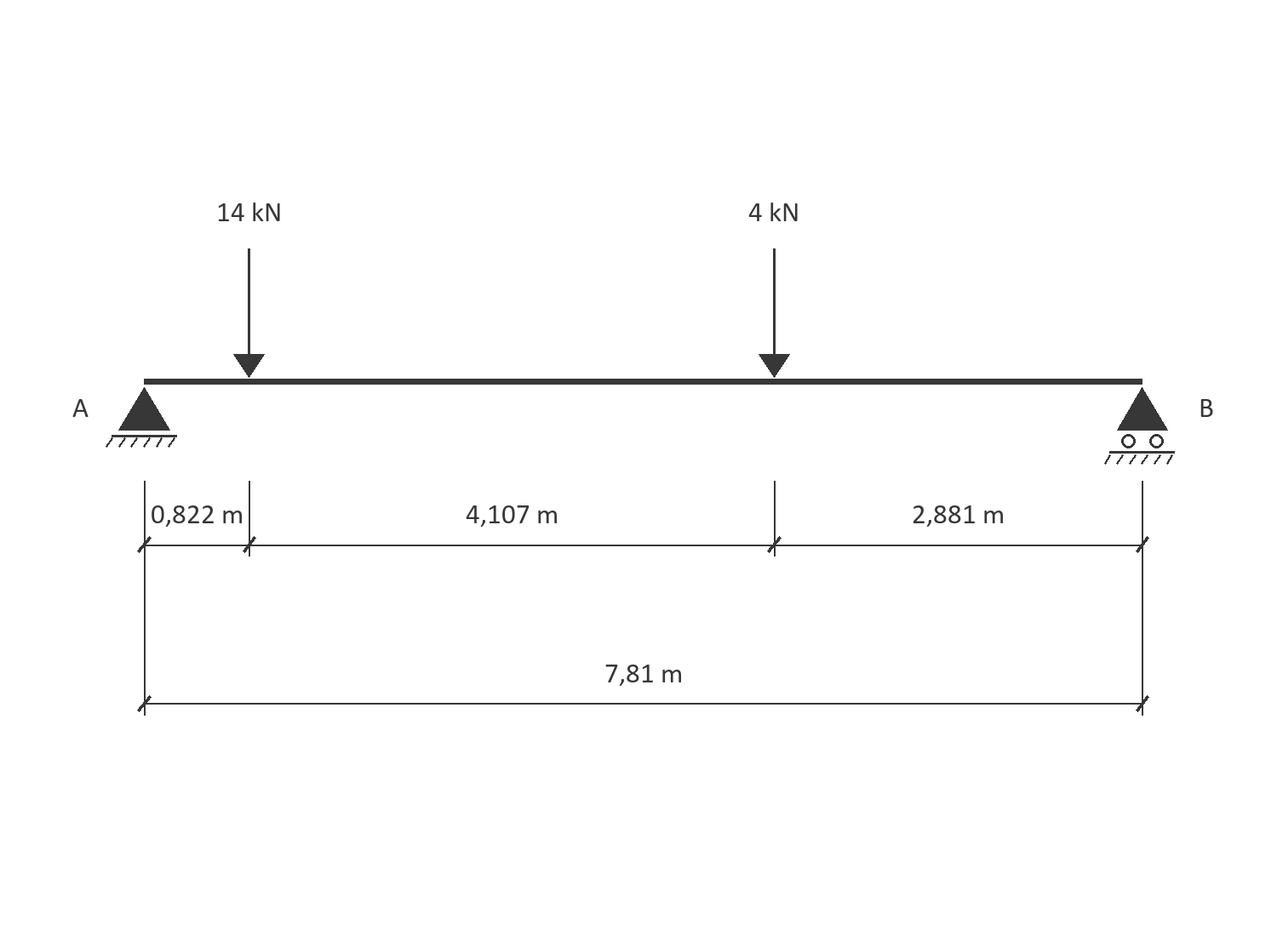pin_support: (106, 387, 177, 448)
point_load: (233, 248, 265, 378), (759, 248, 790, 378)
roller_support: (1104, 387, 1175, 465)
